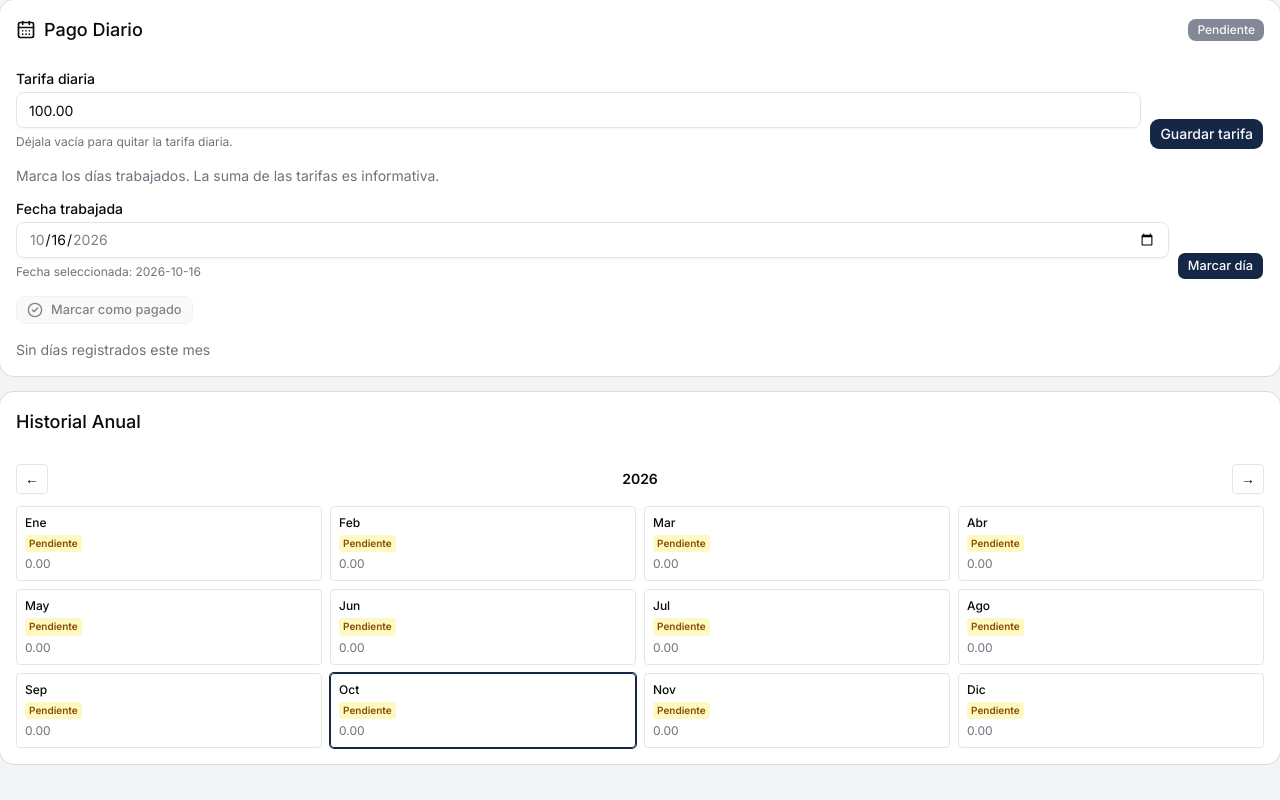
Test: DailyPayPanel › guarda una tarifa diaria positiva y actualiza el campo
This screenshot has width=1280, height=800.
Replace the text in the number field labelled "Tarifa diaria" with "125.50". click: {"x": 579, "y": 110}
box: [16,92,1141,128]
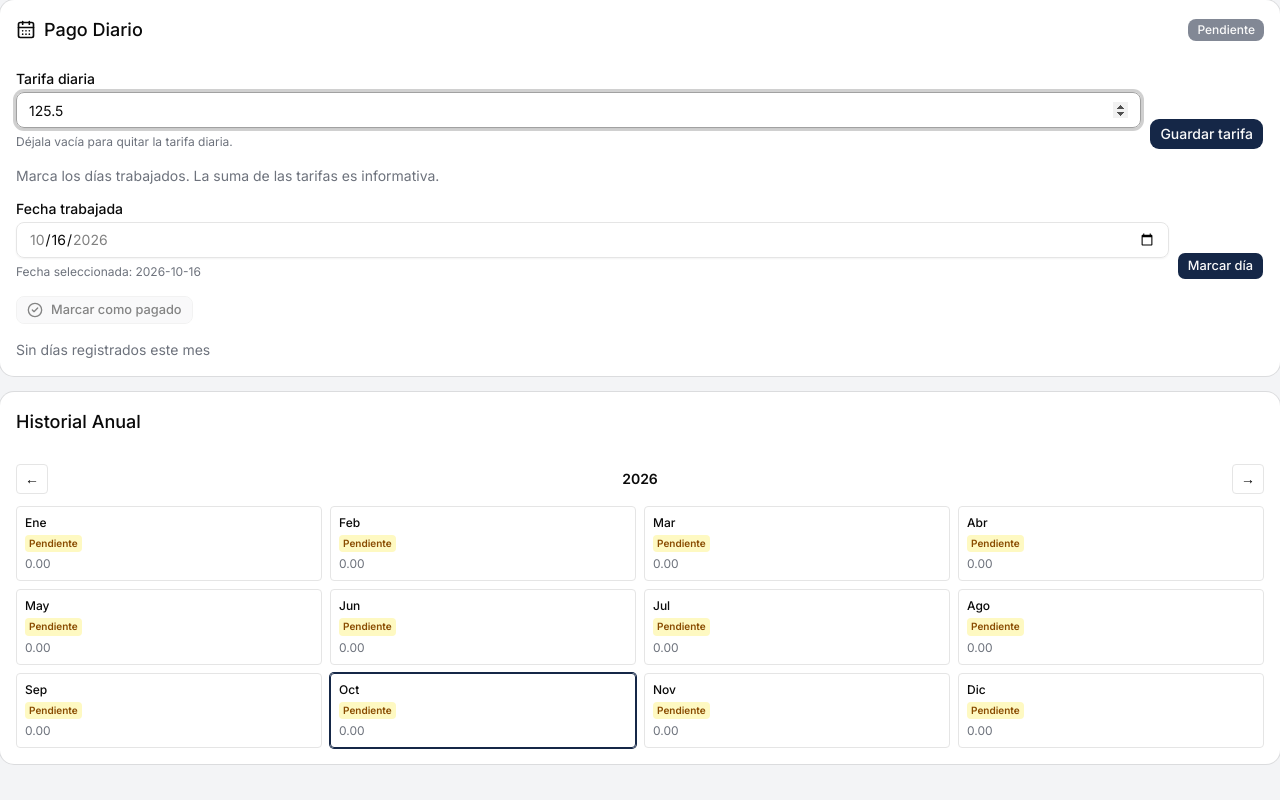
Click the button "Guardar tarifa". click: {"x": 1207, "y": 134}
box: [1149,118,1264,150]
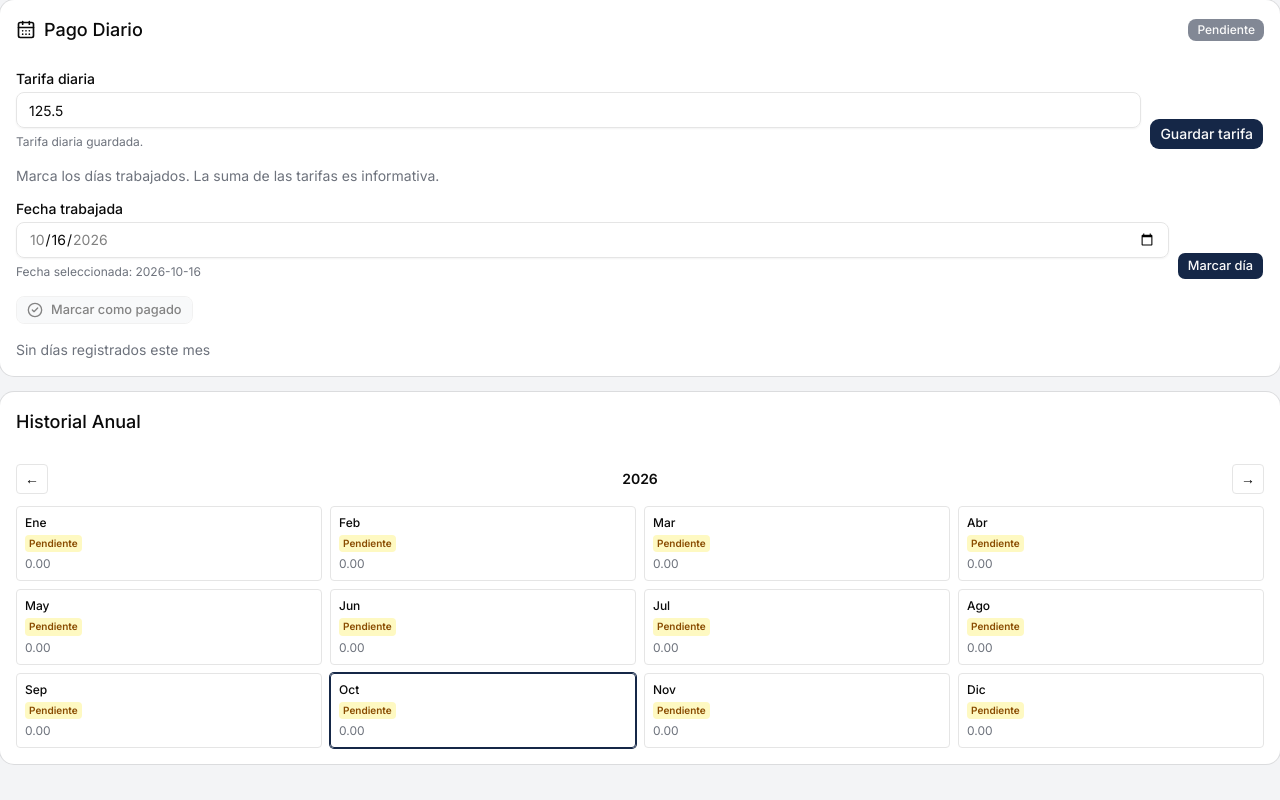
Now the number field labelled "Tarifa diaria" holds "125.5", box [16,92,1141,128]
Now the text "Tarifa diaria guardada." is shown, box [16,134,143,149]
